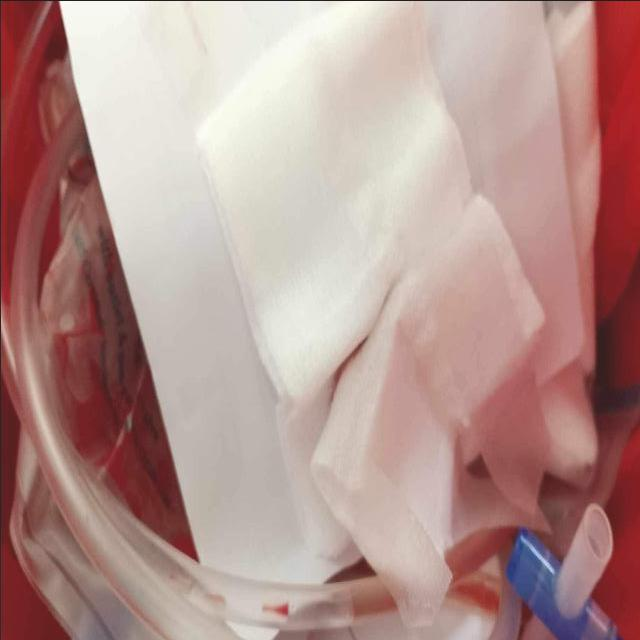General: (2, 1, 636, 637)
Sharps: (502, 525, 619, 638), (552, 500, 615, 618)
